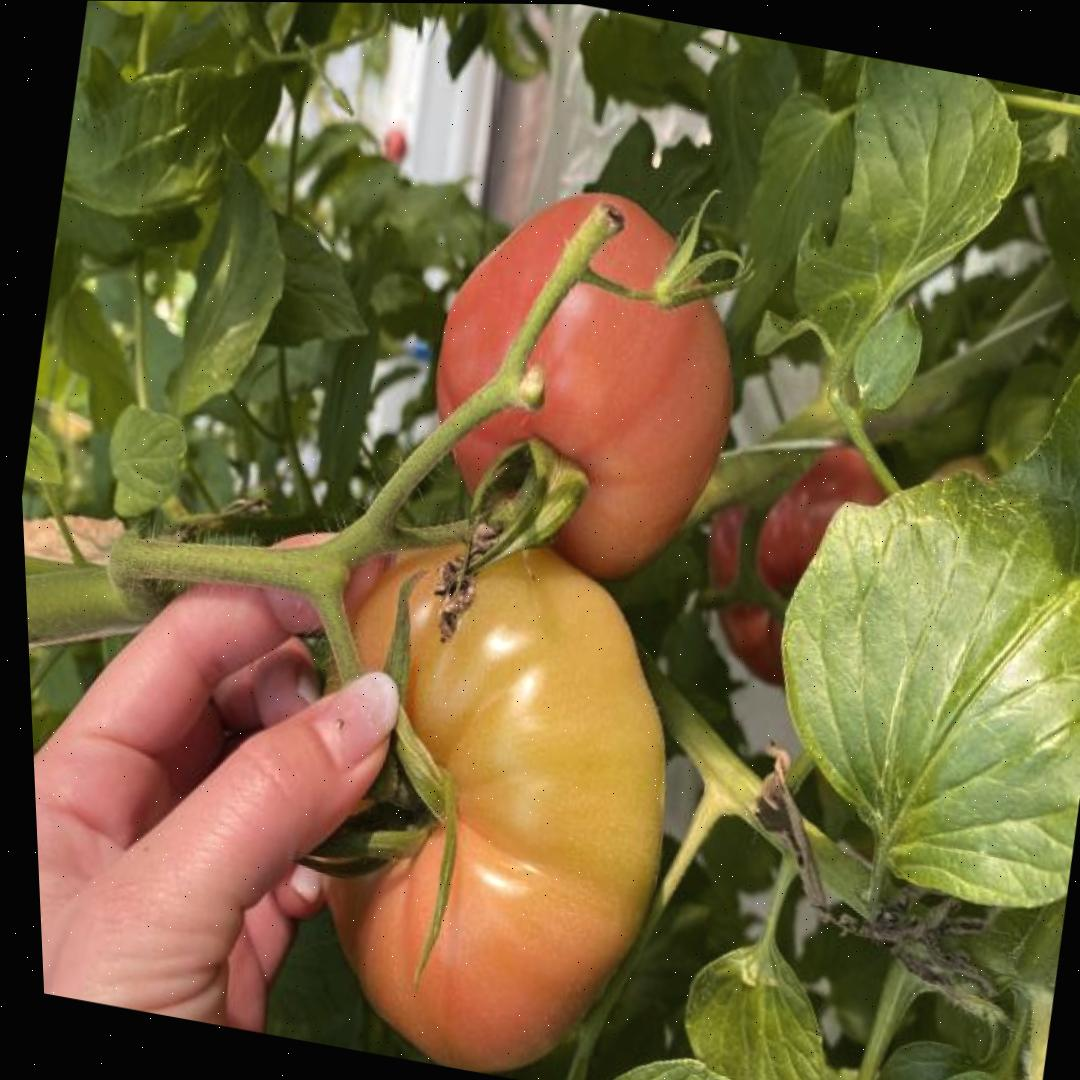setengah_matang: (250, 499, 721, 1080), (391, 149, 781, 606)
